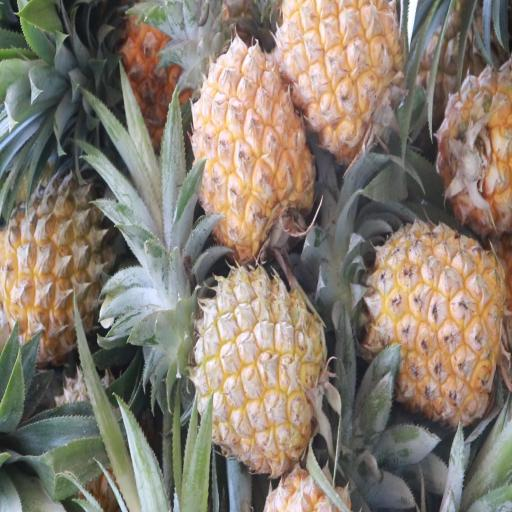------------------------------: (0, 180, 112, 360)
Pineapple - v8 v1: (368, 223, 502, 425), (189, 46, 316, 256), (192, 267, 324, 469), (279, 0, 403, 153)
